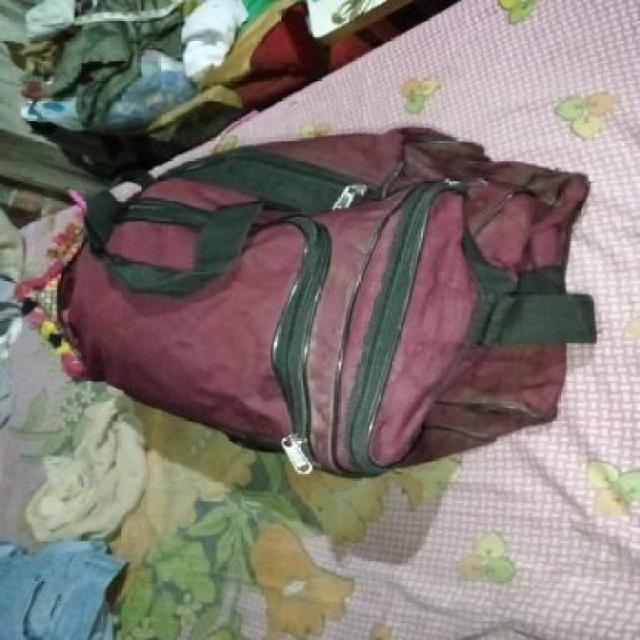backpack: (14, 122, 606, 483)
